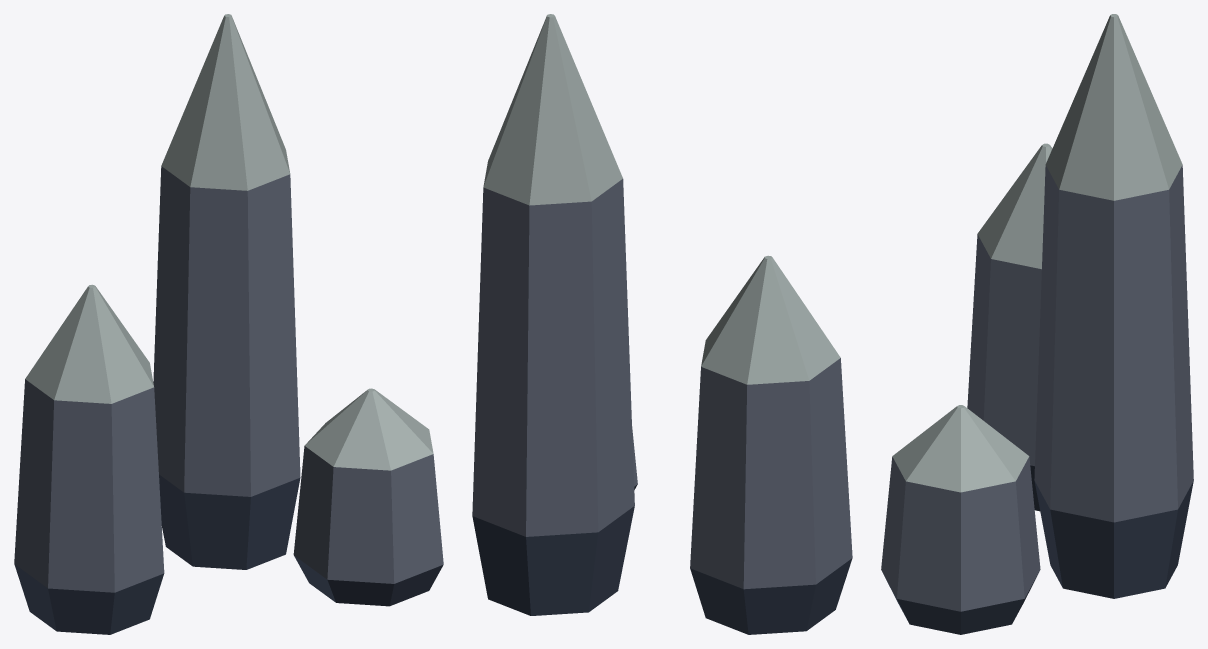
Rendered from stalagmites.glb.
3 renders of one model, left to right at view 1: azimuth 30°, elevation 25°; view 2: azimuth 150°, elevation 25°; view 3: azimuth 270°, elevation 25°, orthographic. The views are drawn at different scales.
Parts seen in each view (by area): view 1: stalagmites__body; view 2: stalagmites__body; view 3: stalagmites__body.
Boxes of the visible parts, <box> form: stalagmites__body: <box>14,14,443,634</box>; stalagmites__body: <box>472,14,852,634</box>; stalagmites__body: <box>881,14,1193,634</box>.
Size of the model in its own units: 1.31 by 1.8 by 0.918.
